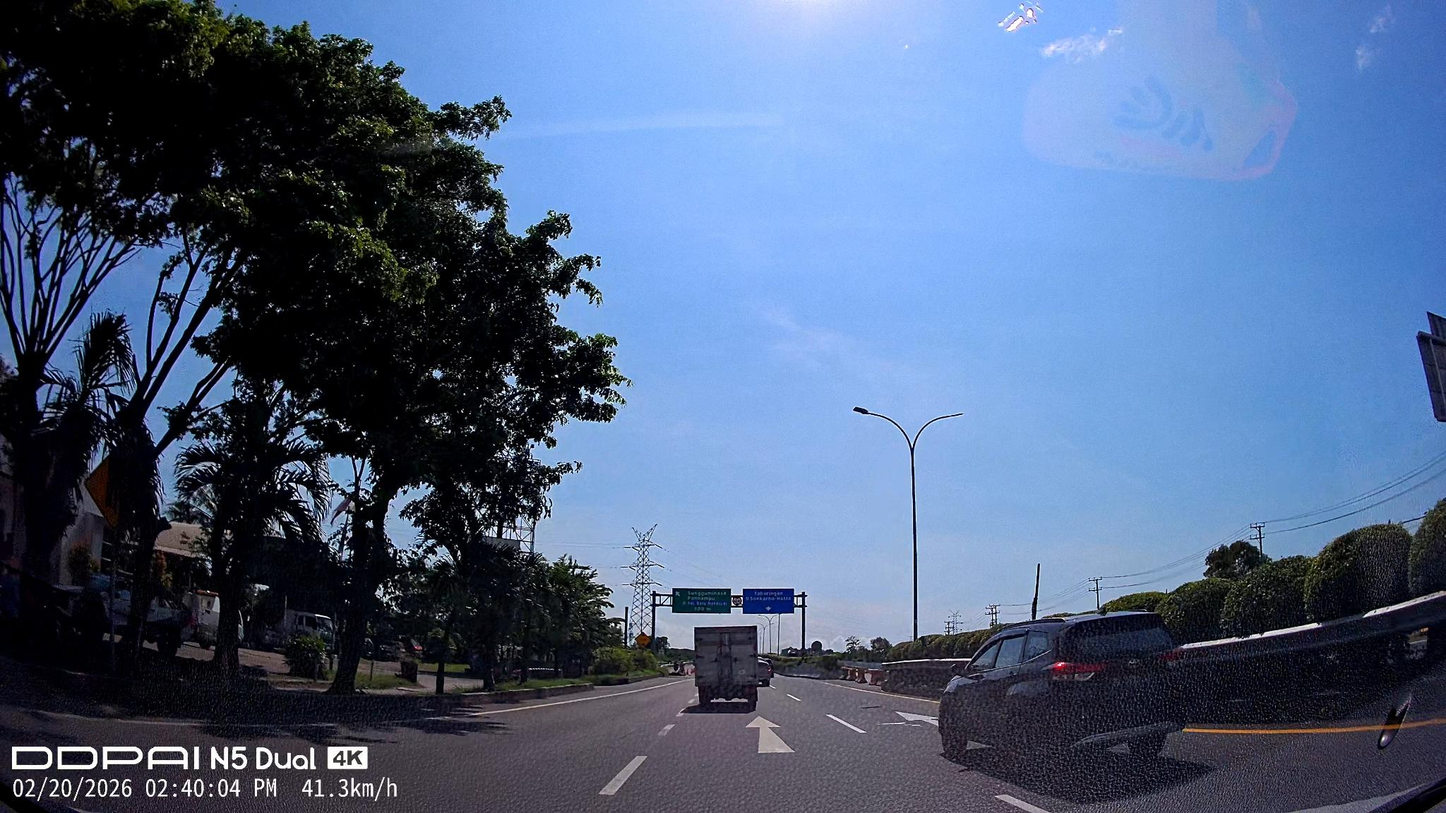rambu_teks: (672, 587, 732, 614), (743, 588, 794, 614)
